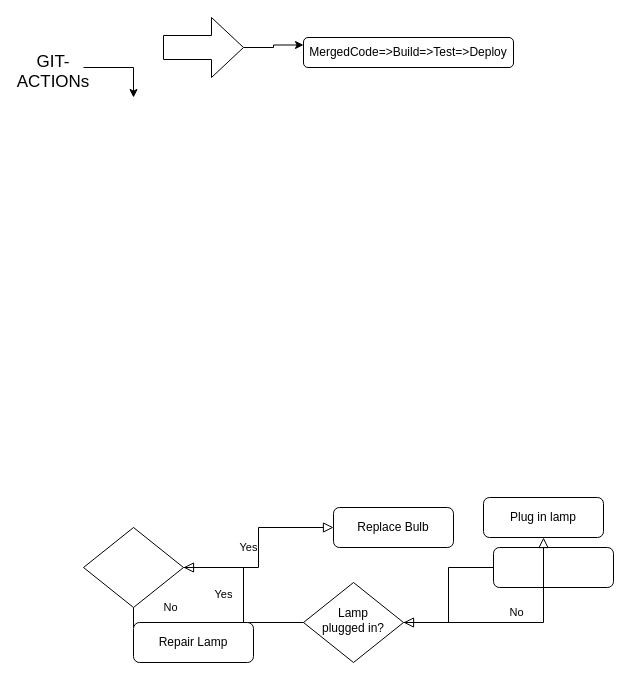
Some shapes in this 631 by 680 pixel diagram are drawn without their labels. The shapes that lost their labels are listed below. From the top down, each one's centre as x and y in pixels, then its label:
At (203,47): "Automate-Worrkflows".
At (133,567): "Bulb burned out?".
At (553,567): "Lamp doesn't work".
